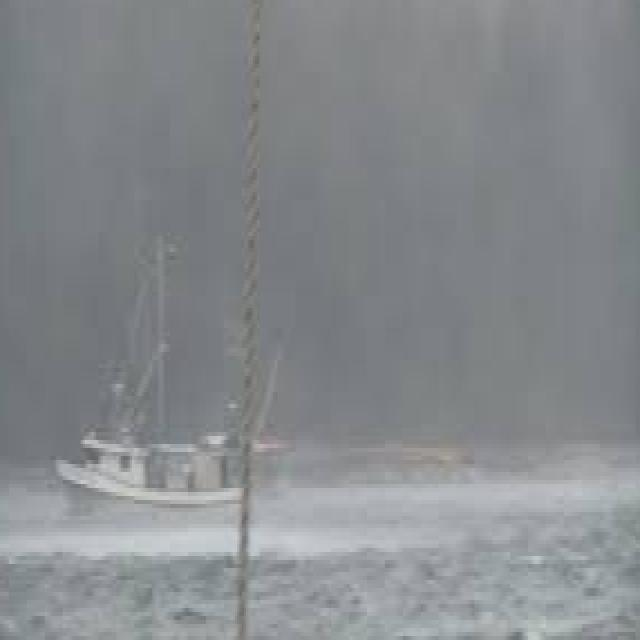fishing boat: (52, 192, 275, 529)
